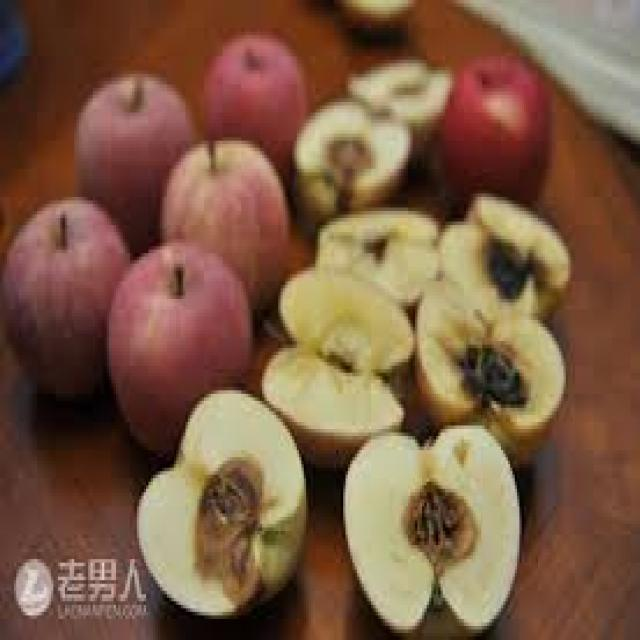organic waste: (130, 383, 301, 619), (341, 418, 526, 636), (111, 239, 255, 447), (257, 264, 420, 443), (404, 285, 568, 450), (0, 190, 128, 401), (158, 130, 288, 313), (72, 74, 192, 232), (441, 190, 575, 313), (443, 53, 549, 204), (283, 88, 415, 207), (202, 28, 306, 172), (308, 204, 443, 295), (346, 50, 448, 166)
